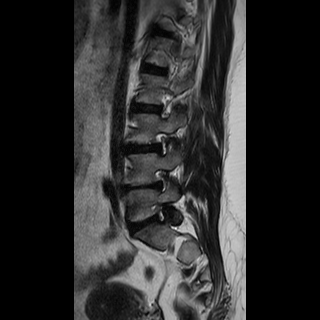RFS0: (148, 162, 171, 196)
RFS2: (148, 125, 173, 161)
